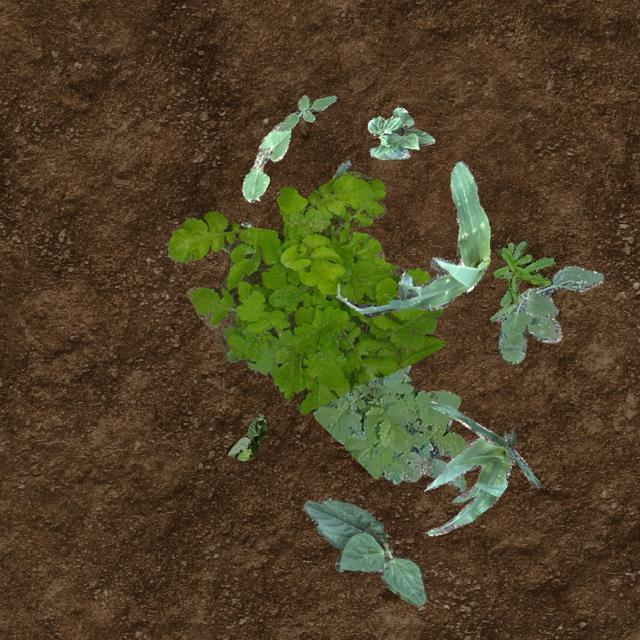crop: (334, 160, 489, 316), (425, 400, 541, 534), (302, 496, 426, 604), (242, 122, 290, 200), (366, 105, 434, 158), (226, 412, 266, 460), (332, 160, 349, 177)
weed: (168, 170, 446, 414), (310, 364, 468, 491), (488, 264, 602, 362), (492, 238, 554, 306), (278, 94, 336, 130), (220, 220, 250, 250)
